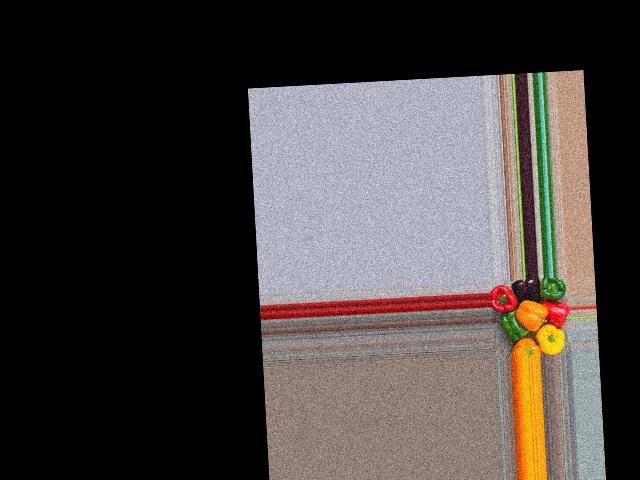bell_pepper: (502, 330, 540, 357)
